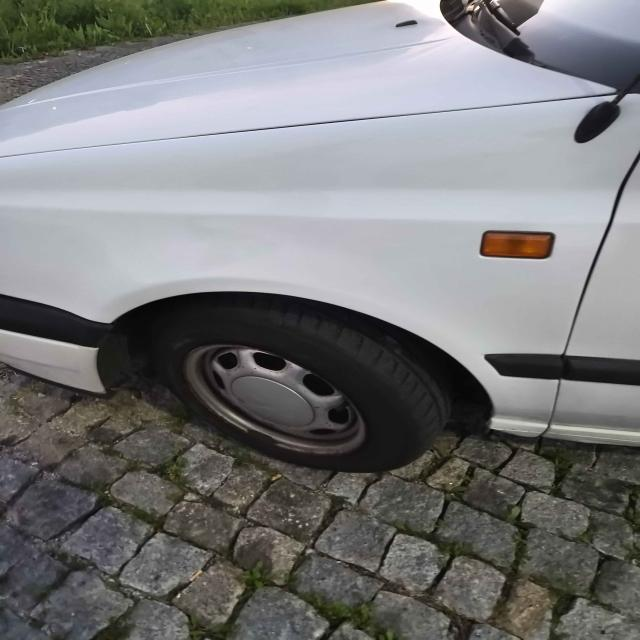jante: (178, 344, 367, 456)
roda: (145, 287, 456, 473)
